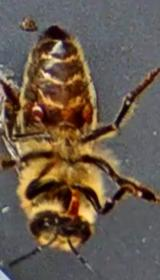varroa_mite: (18, 90, 55, 130), (68, 96, 102, 124)
